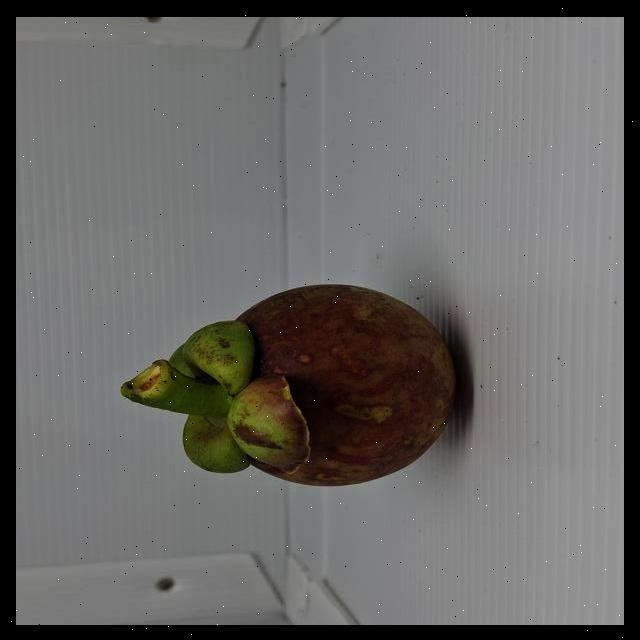mangosteen: (88, 258, 484, 528)
